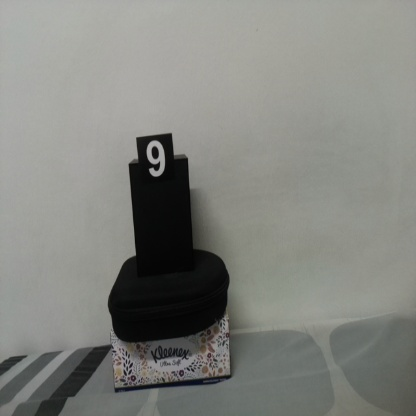id_9: (137, 137, 174, 191)
